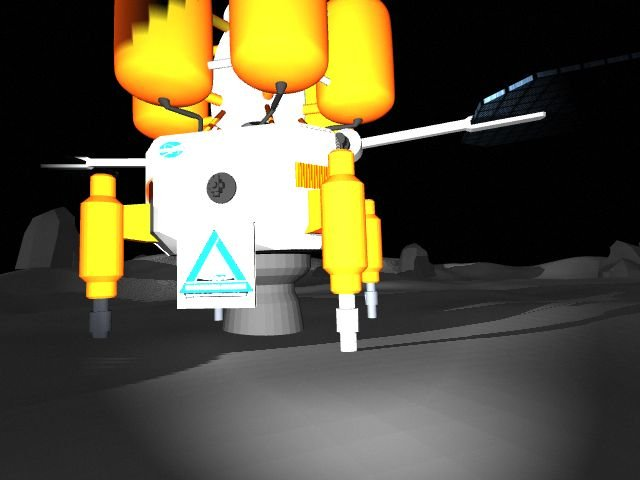basemarker: (178, 229, 255, 300)
